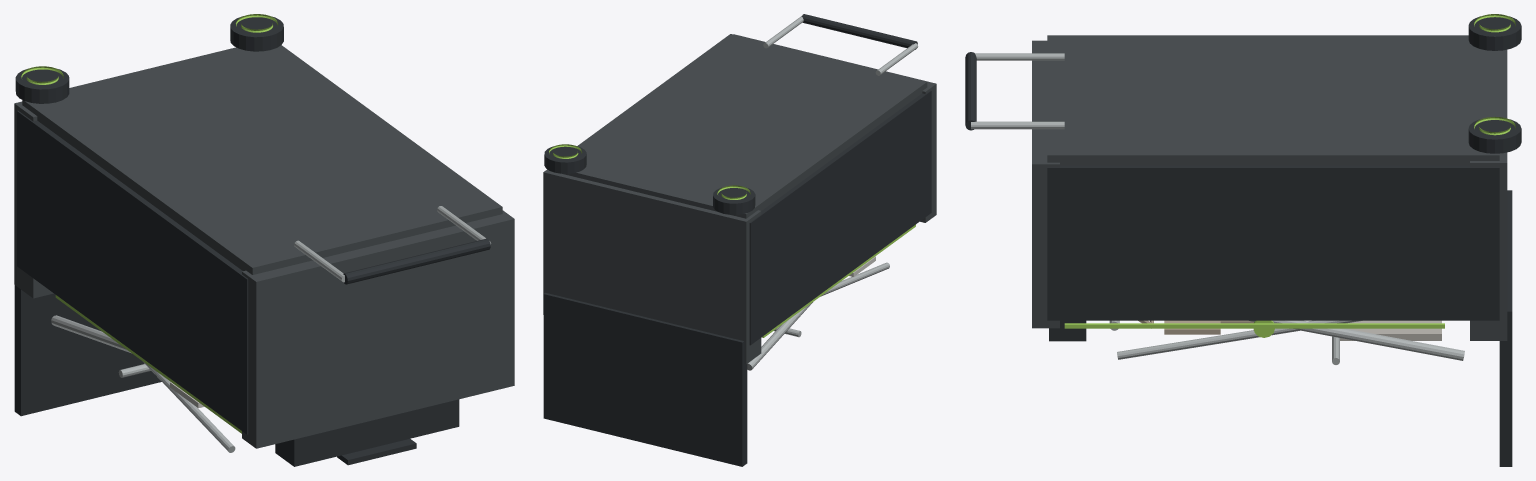
Rendered from nchaf-go.glb.
The picture shows the model from 3 angles, left to right: view 1: azimuth 30°, elevation 25°; view 2: azimuth 150°, elevation 25°; view 3: azimuth 270°, elevation 25°; orthographic projection. The views are drawn at different scales.
Visible parts, largest first — view 1: case_back_1, case_top_4, case_side_left_2, case_open_front_flap_6, top_vent_unit_44, carry_handle_13, case_wheel_7, case_wheel_9, case_bottom_5, control_panel_60, second_diagonal_15, folding_diagonal_14 (+1 smaller); view 2: case_back_1, case_bottom_5, case_open_front_flap_6, case_side_left_2, case_top_4, carry_handle_13, case_wheel_7, case_wheel_9, folding_diagonal_14, lime_side_stripe_64, second_diagonal_15; view 3: case_side_right_3, case_back_1, case_top_4, case_bottom_5, case_open_front_flap_6, lime_side_stripe_65, folding_diagonal_17, second_diagonal_18, case_wheel_7, case_wheel_9, towel_43, carry_handle_13 (+4 smaller).
Boxes of the visible parts, x1,y1,x2,y2 form: case_back_1: (22,45,502,274); case_top_4: (242,210,514,448); case_side_left_2: (17,110,248,434); case_open_front_flap_6: (14,285,161,416); top_vent_unit_44: (275,399,459,466); carry_handle_13: (343,238,490,284); case_wheel_7: (15,68,69,103); case_wheel_9: (230,16,283,51); case_bottom_5: (14,101,53,298); control_panel_60: (337,439,416,465); second_diagonal_15: (142,361,235,452); folding_diagonal_14: (51,315,131,353); case_back_1: (562,34,927,218); case_bottom_5: (543,169,761,364); case_open_front_flap_6: (543,292,747,466); case_side_left_2: (749,90,931,345); case_top_4: (733,34,936,222); carry_handle_13: (801,14,917,49); case_wheel_7: (713,187,755,214); case_wheel_9: (544,146,586,173); folding_diagonal_14: (747,302,812,370); lime_side_stripe_64: (762,224,915,337); second_diagonal_15: (820,262,889,296); case_side_right_3: (1047,165,1499,320); case_back_1: (1047,35,1499,165); case_top_4: (1032,40,1059,328); case_bottom_5: (1470,49,1507,340); case_open_front_flap_6: (1499,190,1512,466); lime_side_stripe_65: (1064,323,1444,328); folding_diagonal_17: (1248,320,1464,360); second_diagonal_18: (1117,320,1362,359); case_wheel_7: (1468,16,1521,50); case_wheel_9: (1468,119,1521,153); towel_43: (1340,320,1441,340); carry_handle_13: (965,52,976,130).
Bounding box in the file's own units: 0.95 × 1.18 × 1.78.
